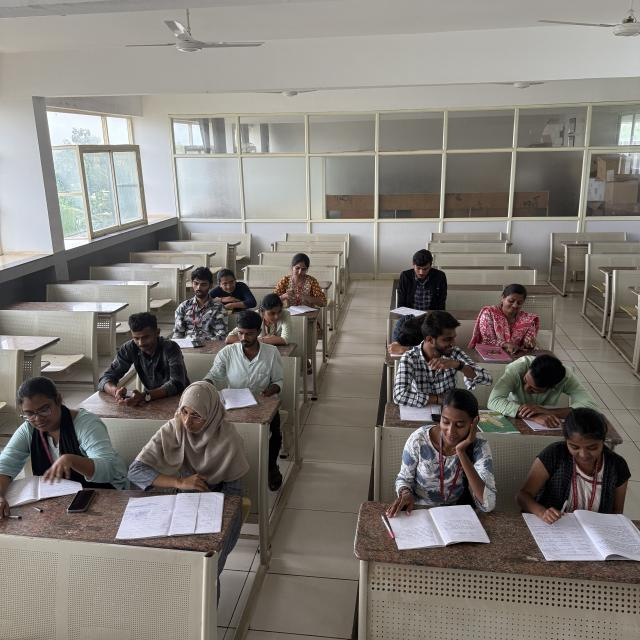Reading: (524, 412, 636, 560), (393, 393, 495, 545), (0, 372, 115, 497), (144, 374, 244, 492), (469, 282, 544, 356), (388, 244, 462, 314), (275, 250, 332, 315)
Sleeping: (486, 349, 593, 412), (389, 307, 442, 364)
Using Phone: (90, 307, 182, 406)
